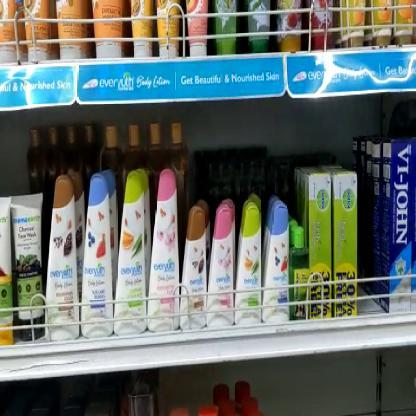Everyuth Naturals Body Lotion Nourishing Cocoa 200ml: (47, 171, 81, 339)
Everyuth Naturals Body Lotion Rejuvenating Flora 200ml: (148, 168, 178, 332)
Everyuth Naturals Body Lotion Soothing Citrus 200ml: (114, 169, 148, 332)
Everyuth Naturals Body Lotion Sun Care Berries SPF 15 200ml: (82, 173, 115, 340)
